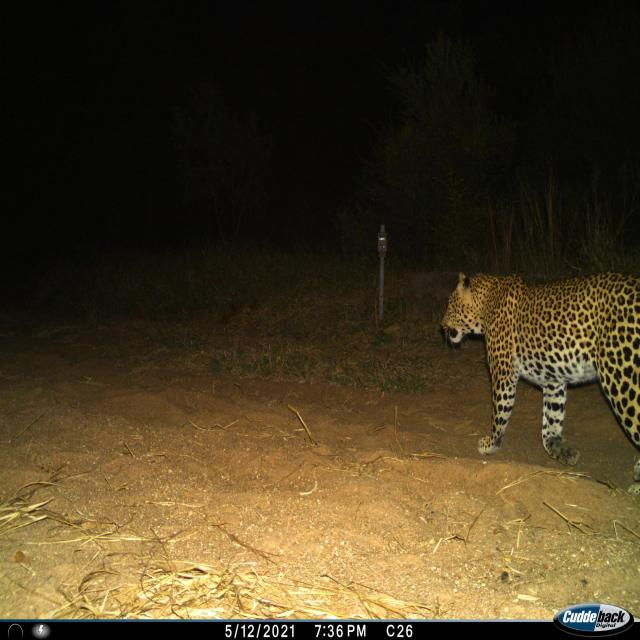Leopard: (434, 260, 632, 486)
